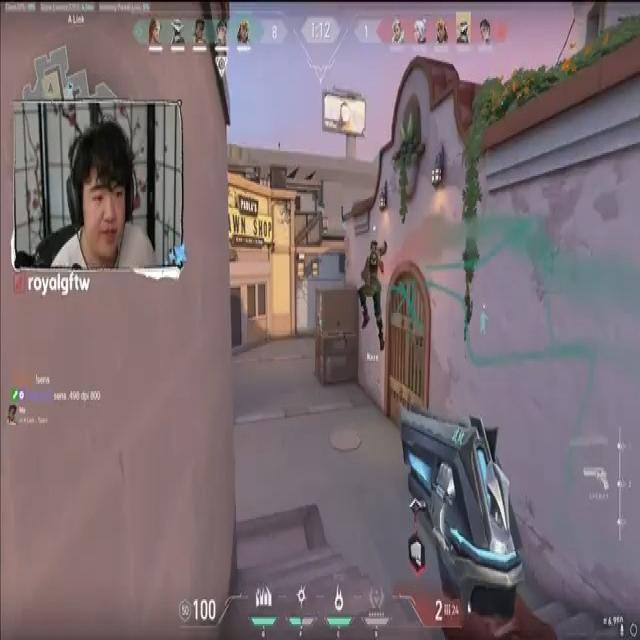ally: (350, 231, 389, 349)
